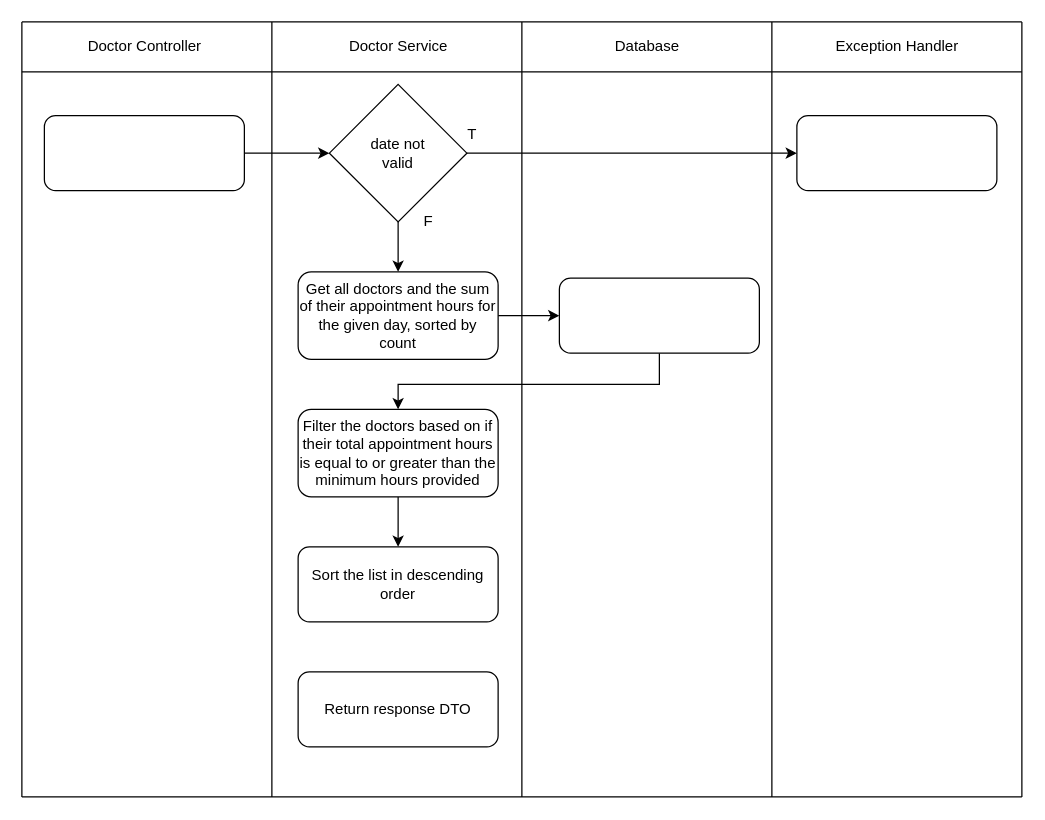
The diagram is 1045 pixels wide and 820 high, and some of its shapes have lost their labels. The shapes that lost their labels are listed below. From the top down, each one's box as (x1, y1, x2, y2) in pixels, then its label:
(43, 114, 244, 191): Get response DTO
(796, 114, 997, 191): Throw bad request exception
(558, 277, 759, 353): Return list of doctors and the sum of their appointment hours
